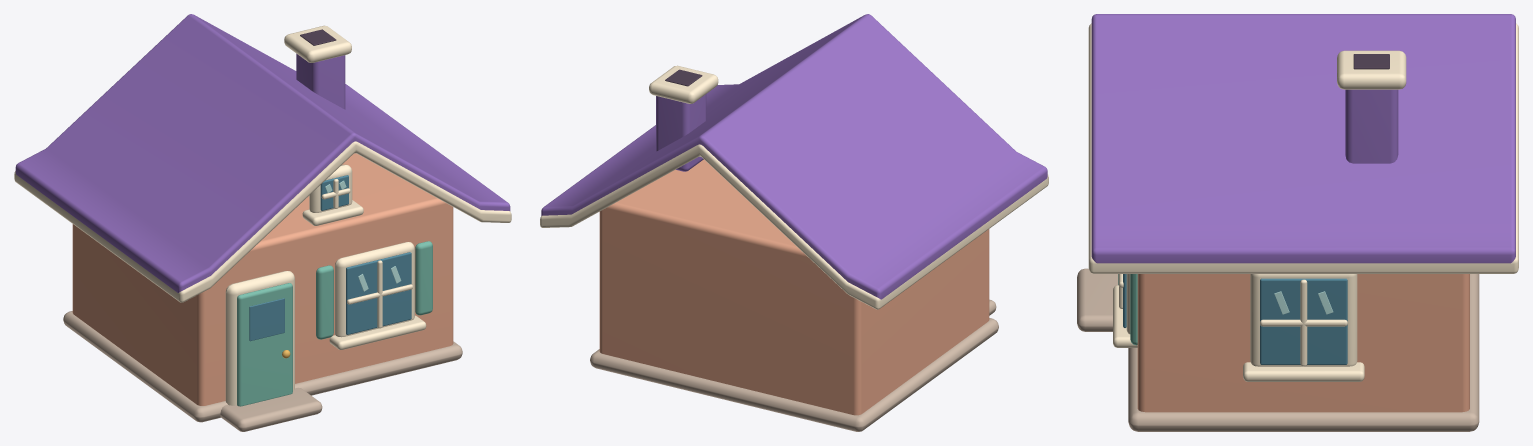
File: Neighborhood_cottage_1.fbx
3 renders of one model, left to right at view 1: azimuth 30°, elevation 25°; view 2: azimuth 150°, elevation 25°; view 3: azimuth 270°, elevation 25°, orthographic. The views are drawn at different scales.
Visible parts, largest first — view 1: Toon_Neighborhood_cottage_1 Roof.001, Toon_Neighborhood_cottage_1 Soft plaster shell.001, Toon_Neighborhood_cottage_1 Vanilla roof edge.001, Toon_Neighborhood_cottage_1 Foundation.001, Toon_Neighborhood_cottage_1 Mint door.001, Toon_Neighborhood_cottage_1 Blue pane.003, Toon_Neighborhood_cottage_1 Doorstep.001, Toon_Neighborhood_cottage_1 Door surround.001, Toon_Neighborhood_cottage_1 Window surround.003, Toon_Neighborhood_cottage_1 Chimney.001, Toon_Neighborhood_cottage_1 Chimney cap.001, Toon_Neighborhood_cottage_1 Shutter.003 (+6 smaller); view 2: Toon_Neighborhood_cottage_1 Roof.001, Toon_Neighborhood_cottage_1 Soft plaster shell.001, Toon_Neighborhood_cottage_1 Foundation.001, Toon_Neighborhood_cottage_1 Vanilla roof edge.001, Toon_Neighborhood_cottage_1 Chimney.001, Toon_Neighborhood_cottage_1 Chimney cap.001; view 3: Toon_Neighborhood_cottage_1 Roof.001, Toon_Neighborhood_cottage_1 Soft plaster shell.001, Toon_Neighborhood_cottage_1 Foundation.001, Toon_Neighborhood_cottage_1 Vanilla roof edge.001, Toon_Neighborhood_cottage_1 Blue pane.004, Toon_Neighborhood_cottage_1 Chimney.001, Toon_Neighborhood_cottage_1 Window surround.004, Toon_Neighborhood_cottage_1 Doorstep.001, Toon_Neighborhood_cottage_1 Chimney cap.001, Toon_Neighborhood_cottage_1 Deep sill.004, Toon_Neighborhood_cottage_1 Deep sill.003, Toon_Neighborhood_cottage_1 Crossbar.004 (+3 smaller).
Part boxes in pixels (bbox=[...]): Toon_Neighborhood_cottage_1 Roof.001: bbox=[15, 14, 510, 292]; Toon_Neighborhood_cottage_1 Soft plaster shell.001: bbox=[72, 153, 453, 405]; Toon_Neighborhood_cottage_1 Vanilla roof edge.001: bbox=[14, 141, 511, 302]; Toon_Neighborhood_cottage_1 Foundation.001: bbox=[63, 311, 462, 422]; Toon_Neighborhood_cottage_1 Mint door.001: bbox=[237, 283, 292, 406]; Toon_Neighborhood_cottage_1 Blue pane.003: bbox=[346, 252, 411, 334]; Toon_Neighborhood_cottage_1 Doorstep.001: bbox=[220, 387, 322, 431]; Toon_Neighborhood_cottage_1 Door surround.001: bbox=[225, 271, 294, 405]; Toon_Neighborhood_cottage_1 Window surround.003: bbox=[335, 242, 414, 337]; Toon_Neighborhood_cottage_1 Chimney.001: bbox=[296, 53, 345, 109]; Toon_Neighborhood_cottage_1 Chimney cap.001: bbox=[284, 25, 351, 62]; Toon_Neighborhood_cottage_1 Shutter.003: bbox=[415, 241, 432, 315]; Toon_Neighborhood_cottage_1 Roof.001: bbox=[541, 14, 1047, 299]; Toon_Neighborhood_cottage_1 Soft plaster shell.001: bbox=[599, 159, 989, 415]; Toon_Neighborhood_cottage_1 Foundation.001: bbox=[590, 318, 998, 431]; Toon_Neighborhood_cottage_1 Vanilla roof edge.001: bbox=[540, 144, 1048, 309]; Toon_Neighborhood_cottage_1 Chimney.001: bbox=[656, 94, 706, 171]; Toon_Neighborhood_cottage_1 Chimney cap.001: bbox=[649, 65, 718, 103]; Toon_Neighborhood_cottage_1 Roof.001: bbox=[1091, 14, 1515, 263]; Toon_Neighborhood_cottage_1 Soft plaster shell.001: bbox=[1137, 274, 1469, 412]; Toon_Neighborhood_cottage_1 Foundation.001: bbox=[1128, 274, 1479, 431]; Toon_Neighborhood_cottage_1 Vanilla roof edge.001: bbox=[1088, 23, 1518, 273]; Toon_Neighborhood_cottage_1 Blue pane.004: bbox=[1260, 278, 1347, 364]; Toon_Neighborhood_cottage_1 Chimney.001: bbox=[1345, 89, 1398, 163]; Toon_Neighborhood_cottage_1 Window surround.004: bbox=[1250, 274, 1357, 366]; Toon_Neighborhood_cottage_1 Doorstep.001: bbox=[1077, 268, 1118, 331]; Toon_Neighborhood_cottage_1 Chimney cap.001: bbox=[1337, 50, 1406, 89]; Toon_Neighborhood_cottage_1 Deep sill.004: bbox=[1243, 362, 1364, 381]; Toon_Neighborhood_cottage_1 Deep sill.003: bbox=[1113, 285, 1137, 347]; Toon_Neighborhood_cottage_1 Crossbar.004: bbox=[1260, 319, 1347, 326].
Size of the model in its own units: 650 by 501 by 586.
